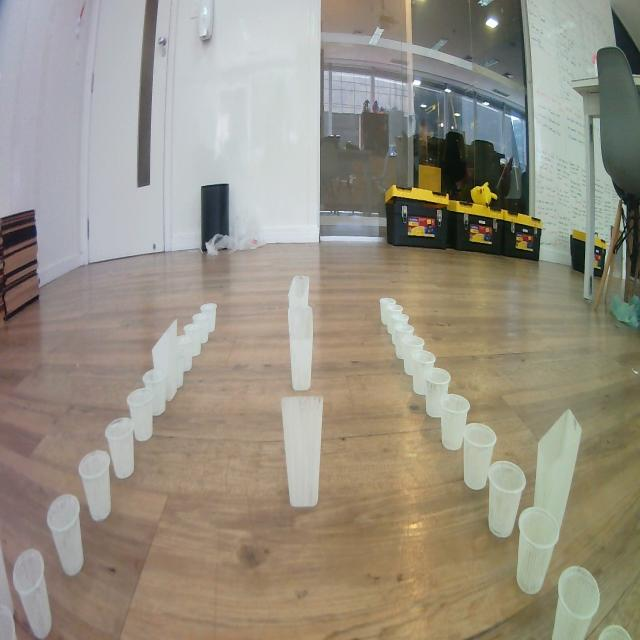erva_daninha: (532, 408, 582, 543), (281, 396, 324, 508), (287, 306, 313, 393), (152, 318, 178, 402), (288, 275, 310, 310)
planta: (516, 505, 561, 596), (550, 564, 600, 640), (12, 549, 53, 640), (46, 493, 84, 577), (488, 461, 526, 538), (78, 449, 112, 522), (462, 423, 497, 491), (105, 418, 135, 480), (440, 393, 470, 451), (127, 388, 153, 442), (425, 367, 451, 418), (142, 369, 166, 417), (412, 350, 436, 396), (403, 336, 425, 376), (173, 335, 193, 372), (395, 324, 415, 359), (183, 324, 202, 356), (390, 313, 409, 345), (386, 304, 404, 335), (192, 313, 209, 344), (379, 297, 397, 326), (200, 303, 217, 332)
